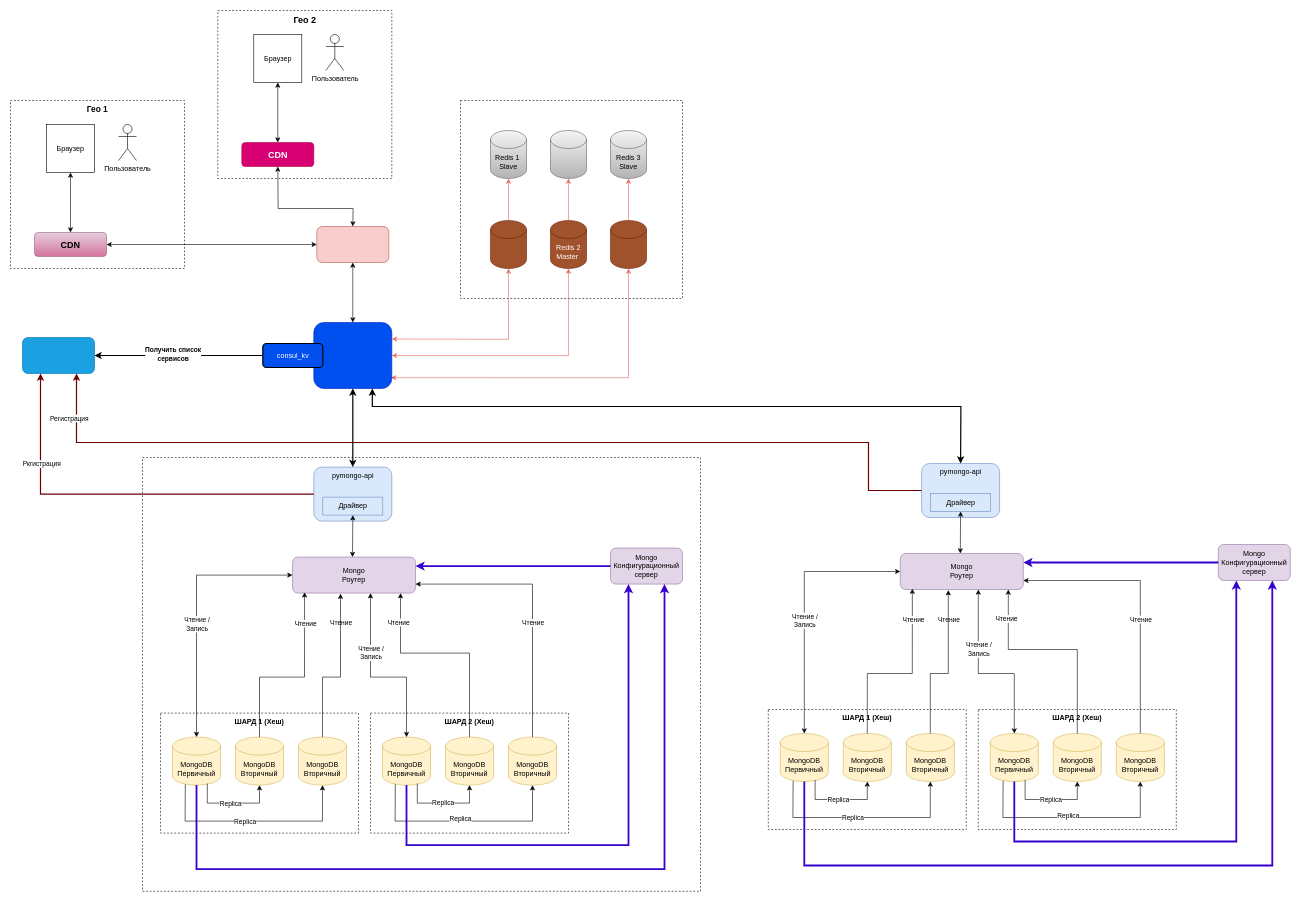
Some shapes in this 1301 by 902 pixel diagram are drawn without their labels. The centre of each missing label's shape, as x and y in pixels:
"APISIX Gateway" goes at point 352,355.
"Consul" goes at point 58,355.
"Redis 1 Master" goes at point 508,244.
"Redis 2 Slave" goes at point 568,154.
"Redis 3 Master" goes at point 628,244.
"Сайт React/NGINX" goes at point 352,244.
